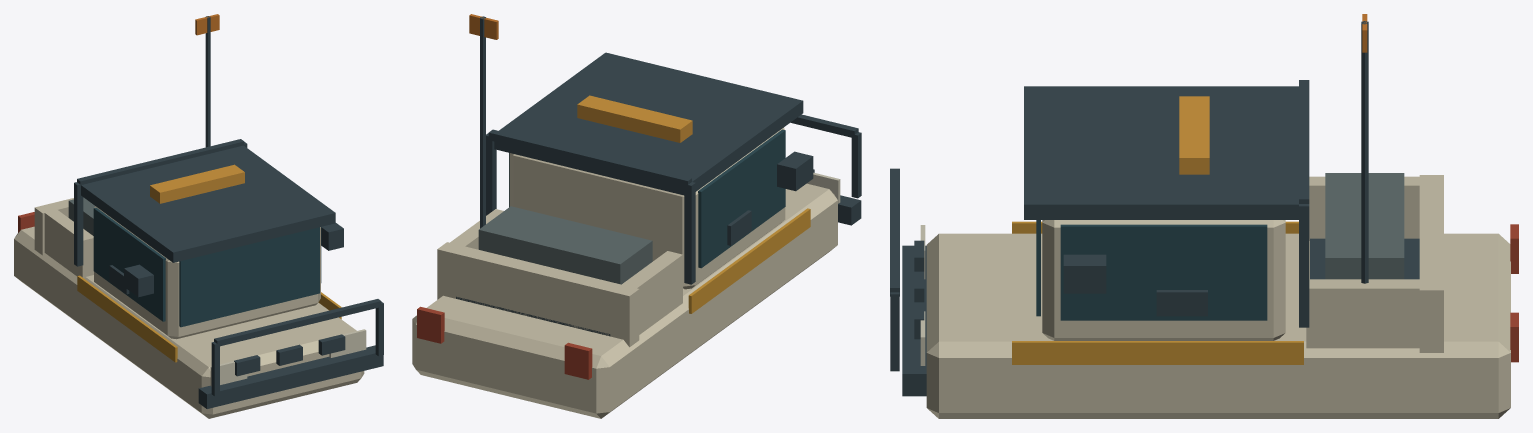
The model's file is ute.glb.
3 views of the same model, side by side, from view 1: azimuth 30°, elevation 25°; view 2: azimuth 150°, elevation 25°; view 3: azimuth 270°, elevation 25° (orthographic). The views are drawn at different scales.
Bounding box in the file's own units: 2.91 × 3.55 × 5.16.
